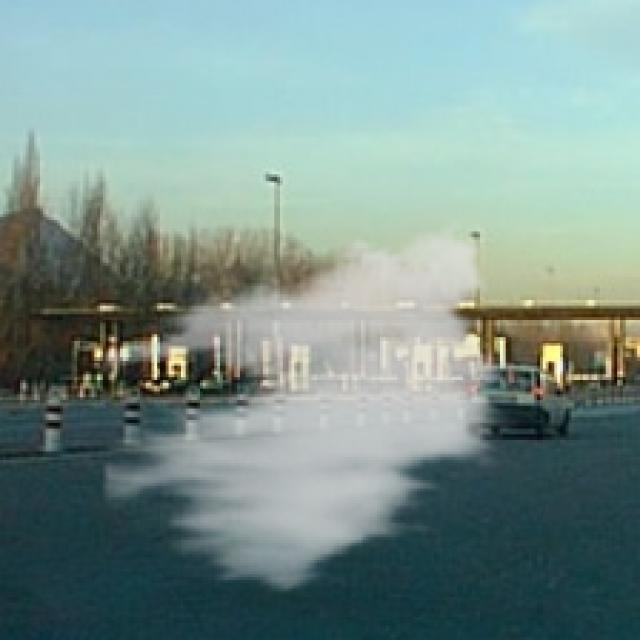smoke: (103, 211, 517, 603)
